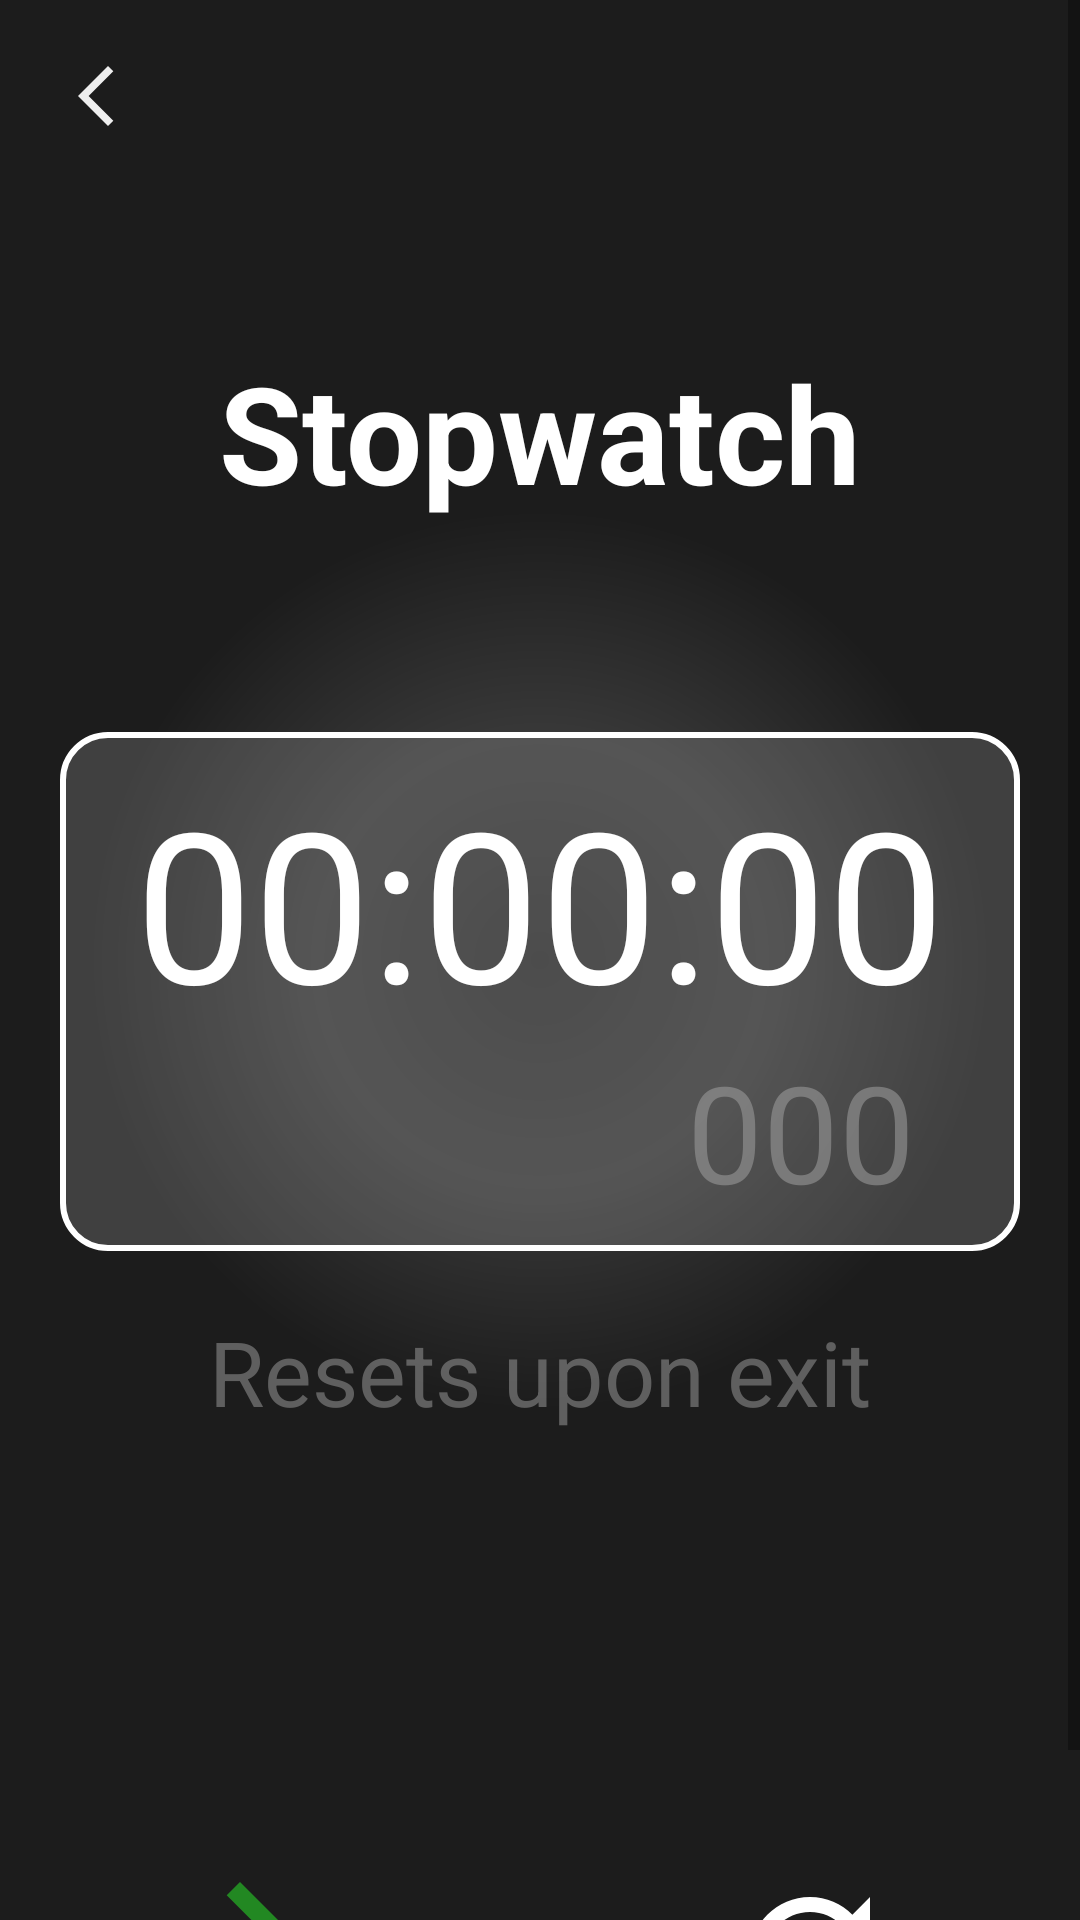

Point at icon controls on the screen. Image size 1080 x 1920, points as point (x, y).
arrow back: point (95, 96)
